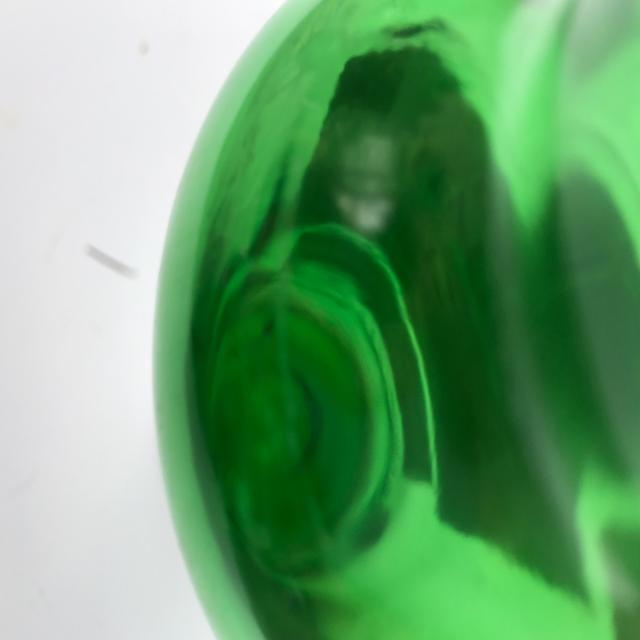glass: (151, 0, 640, 640)
